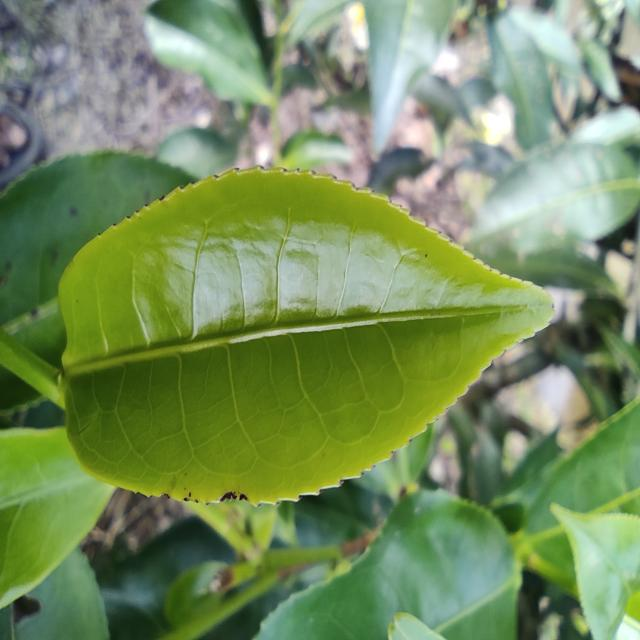Category B(2-4 days): (44, 157, 558, 515)
